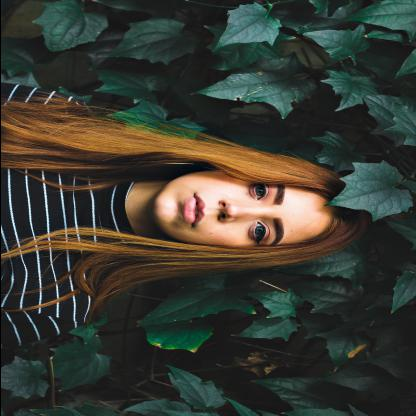Eye: (249, 221, 269, 245), (248, 183, 271, 202)
Mouth: (180, 192, 208, 228)
Nose: (216, 197, 260, 225)
